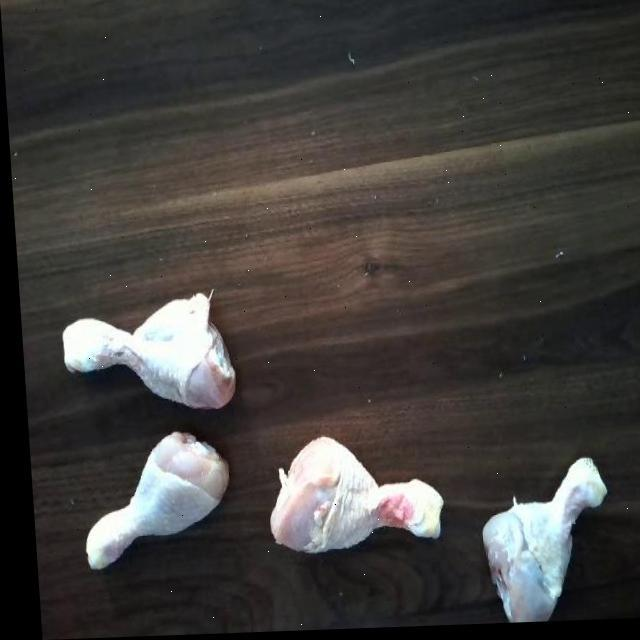leg: (245, 428, 440, 570), (466, 452, 606, 627), (53, 294, 240, 424), (72, 428, 228, 568)
